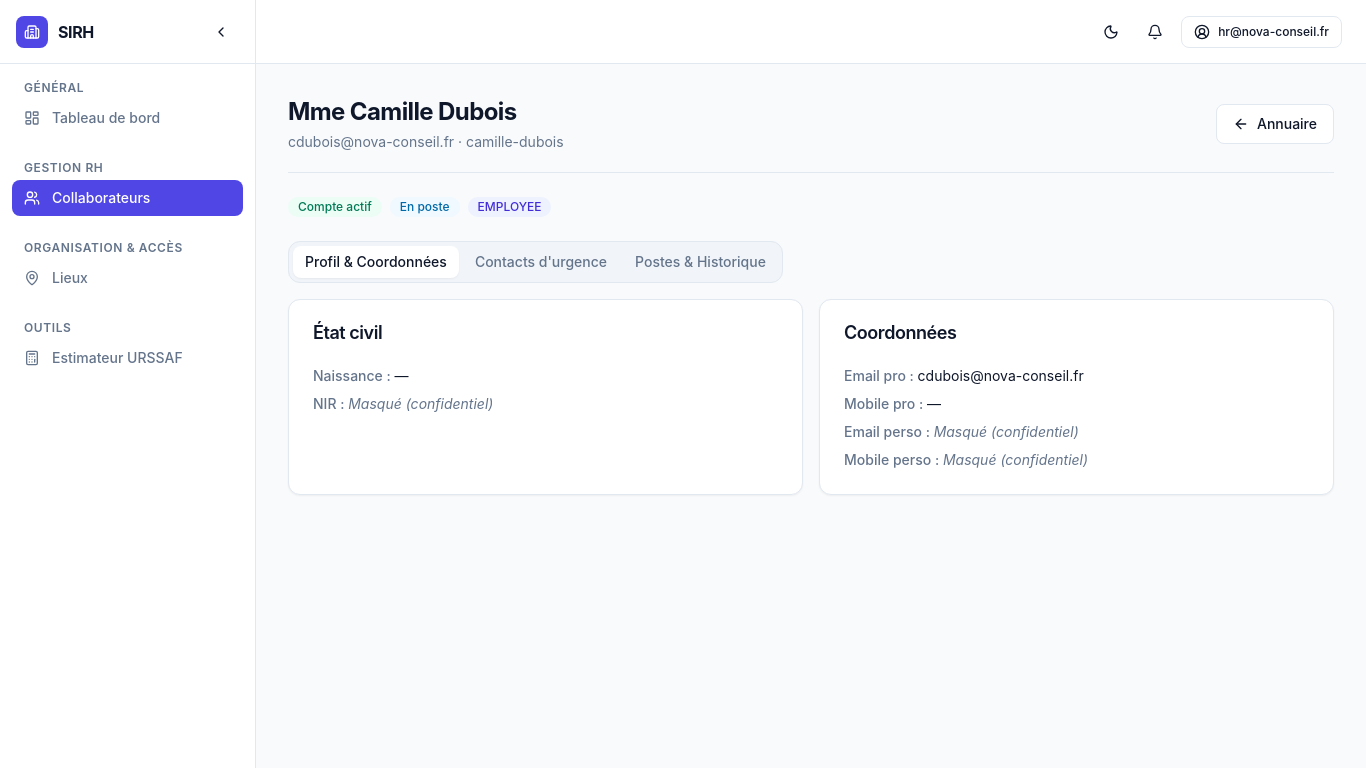
Test: Emergency Contacts & Positions (US-F016, US-F017) › enforces max 2 emergency contacts and at least one phone number
Click the tab "Contacts d'urgence" at (541, 262), box [463, 246, 619, 278]
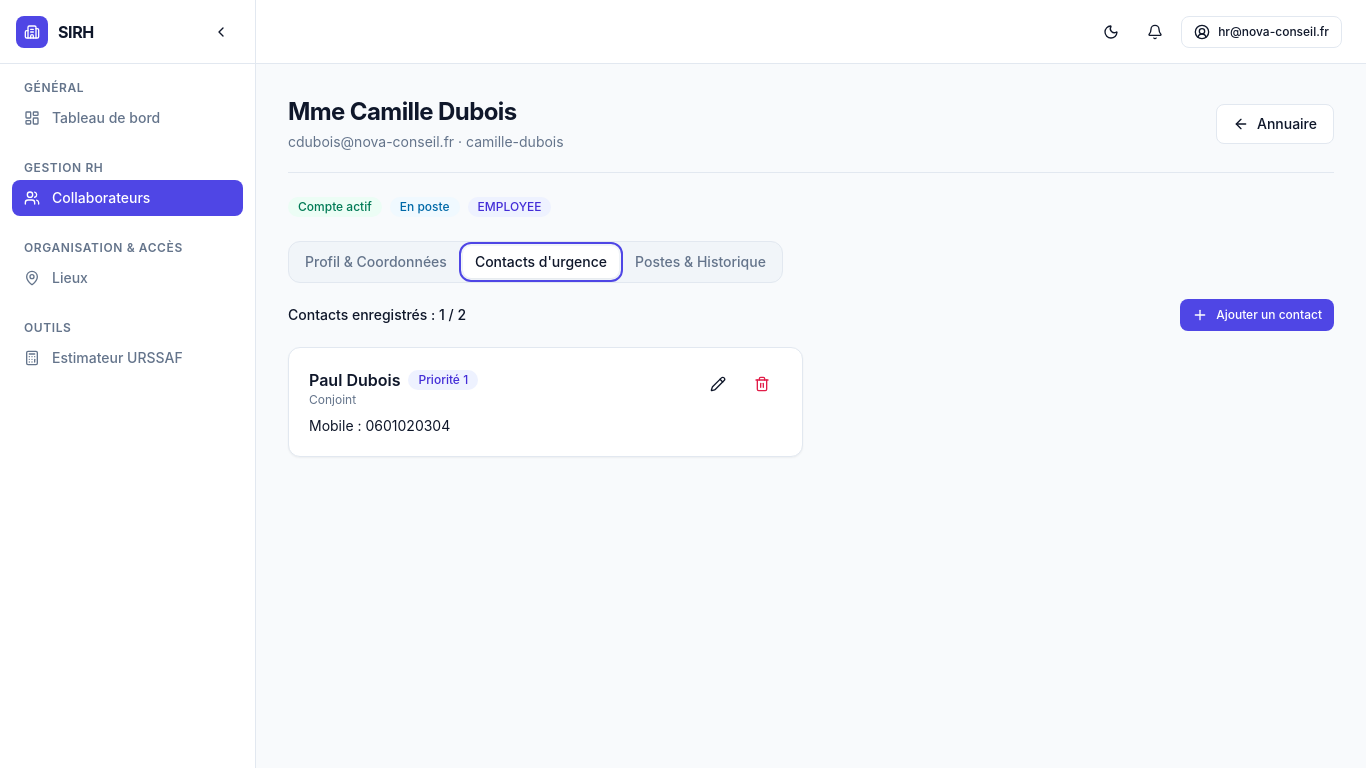
Result: the text "Paul Dubois" is shown at [309, 368, 400, 392]
Result: the text "Contacts enregistrés : 1 / 2" is shown at [288, 305, 466, 325]
Click the button "Ajouter un contact" at (1257, 315), box [1180, 299, 1334, 331]
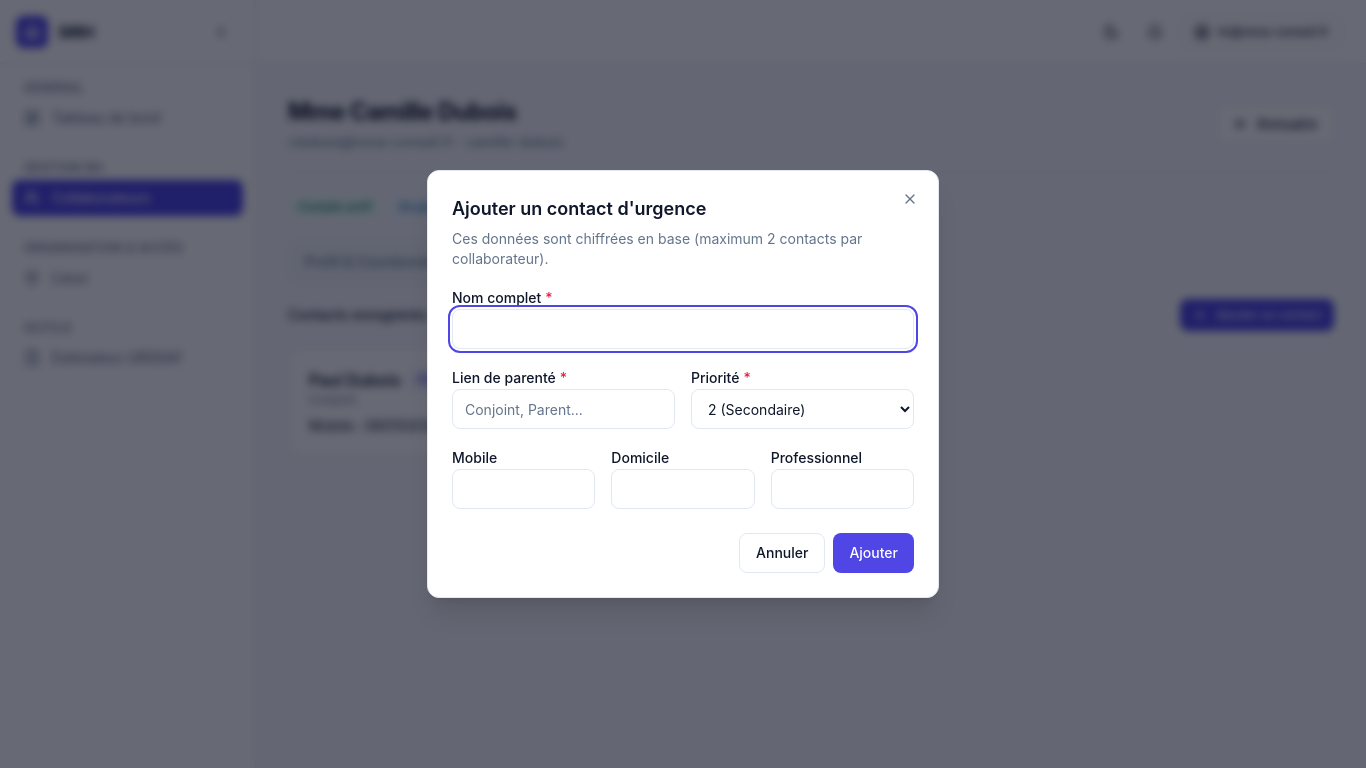
Type "Claire Dubois" into the field labelled "Nom complet*" at (683, 329), box [452, 309, 914, 349]
Type "Mère" into the field labelled "Lien de parenté*" at (564, 409), box [452, 389, 675, 429]
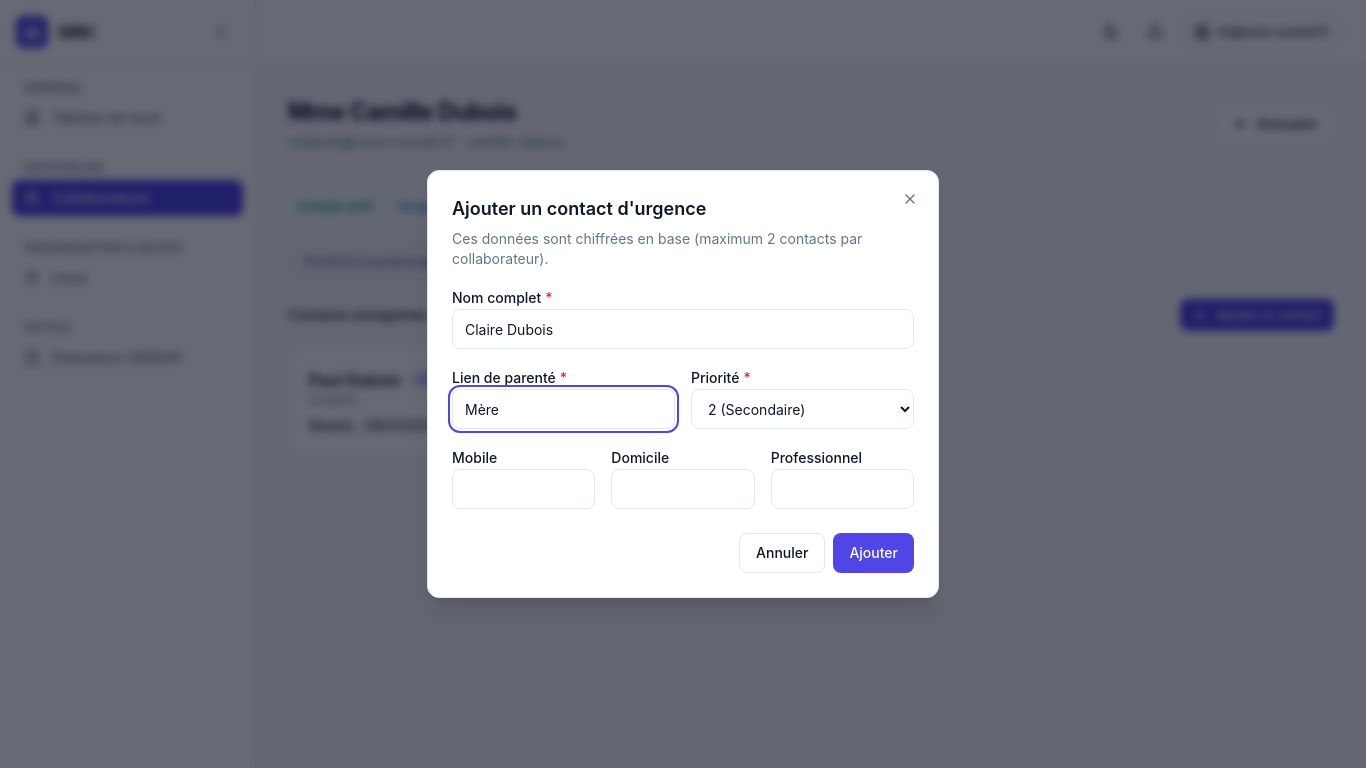
Click the button "Ajouter" at (874, 553), box [833, 533, 914, 573]
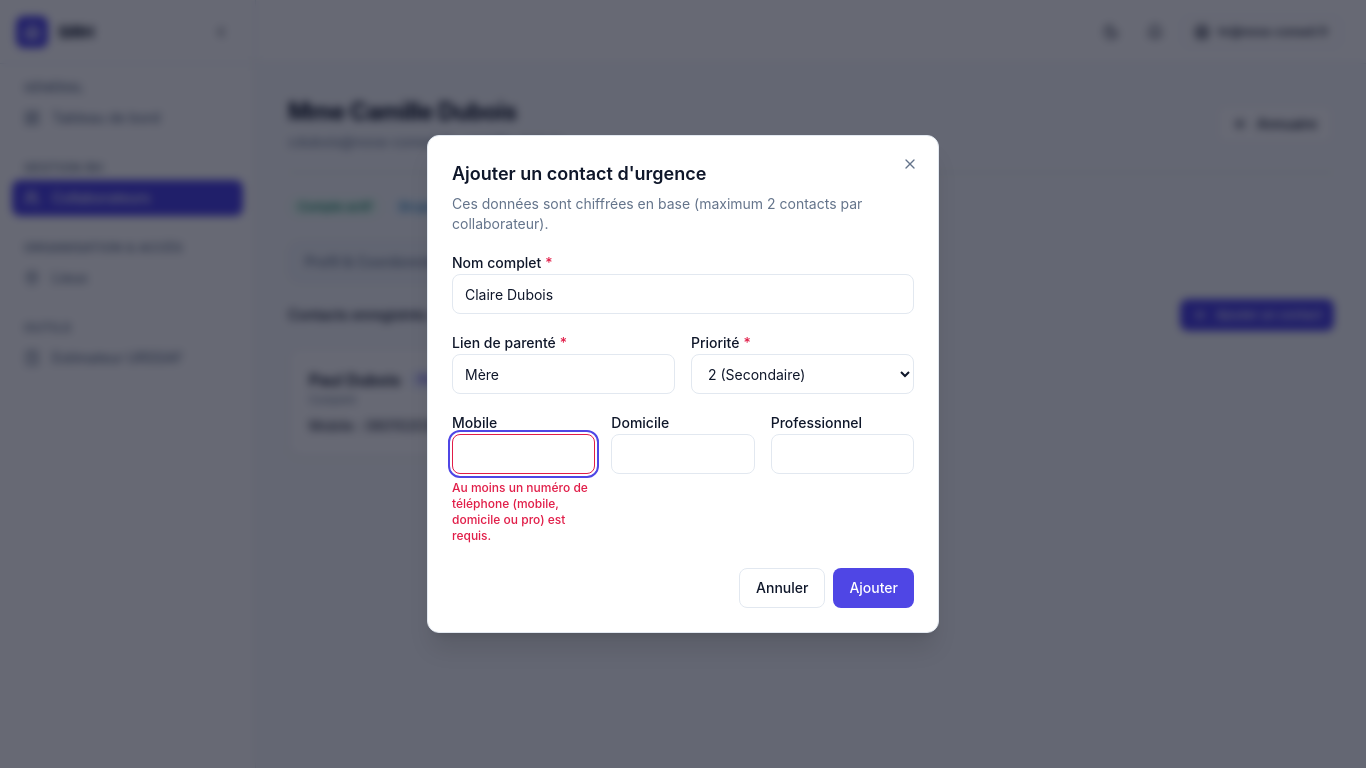
Result: the text "Au moins un numéro de téléphone (mobile, domicile ou pro) est requis." is shown at [452, 480, 595, 544]
Type "0699887766" into the field labelled "Mobile" at (524, 454), box [452, 434, 595, 474]
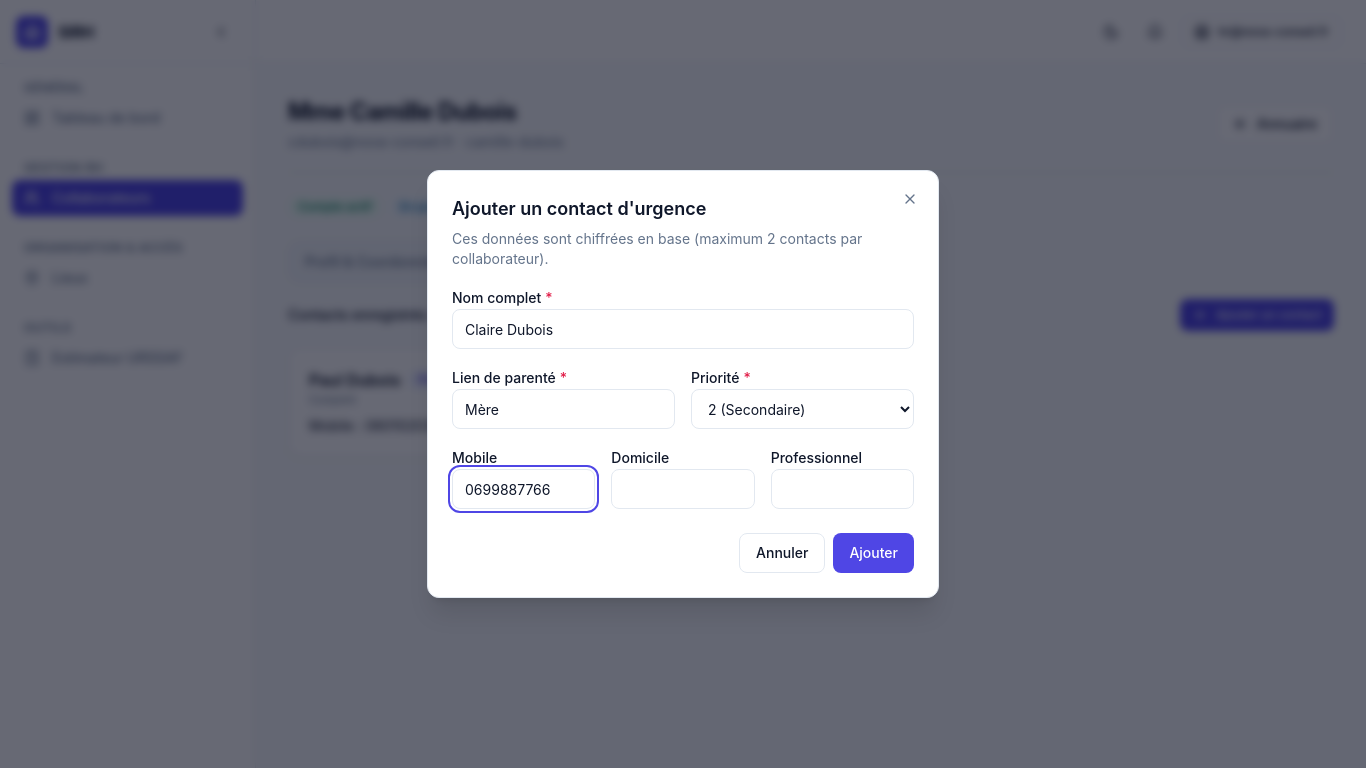
Click the button "Ajouter" at (874, 553), box [833, 533, 914, 573]
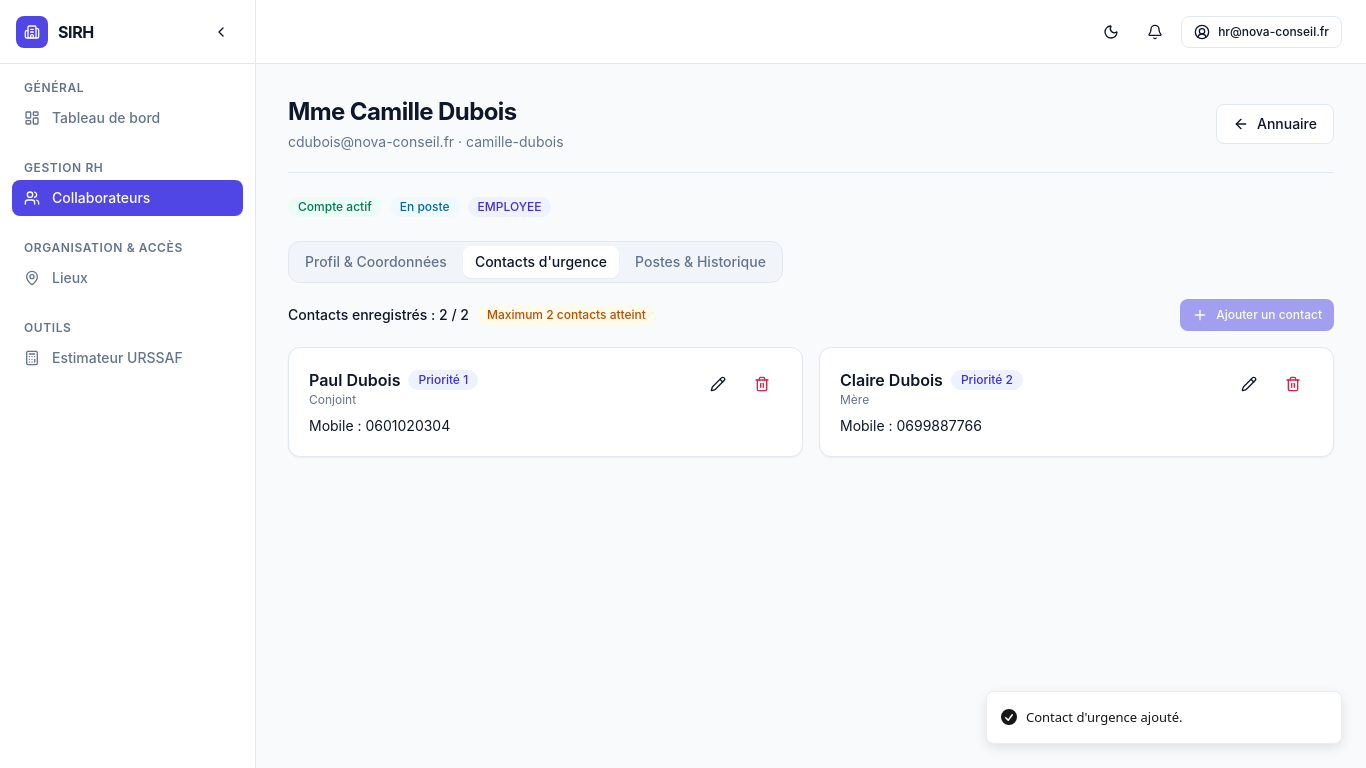
Result: the text "Claire Dubois" is shown at [840, 368, 943, 392]
Result: the text "Maximum 2 contacts atteint" is shown at [477, 305, 656, 325]
Result: the button "Ajouter un contact" is disabled at [1180, 299, 1334, 331]
